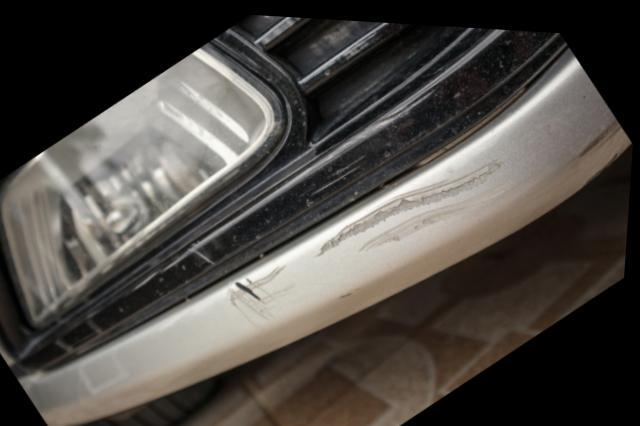scratch: (314, 149, 508, 257), (303, 83, 432, 195), (561, 108, 633, 186), (230, 259, 296, 329)
